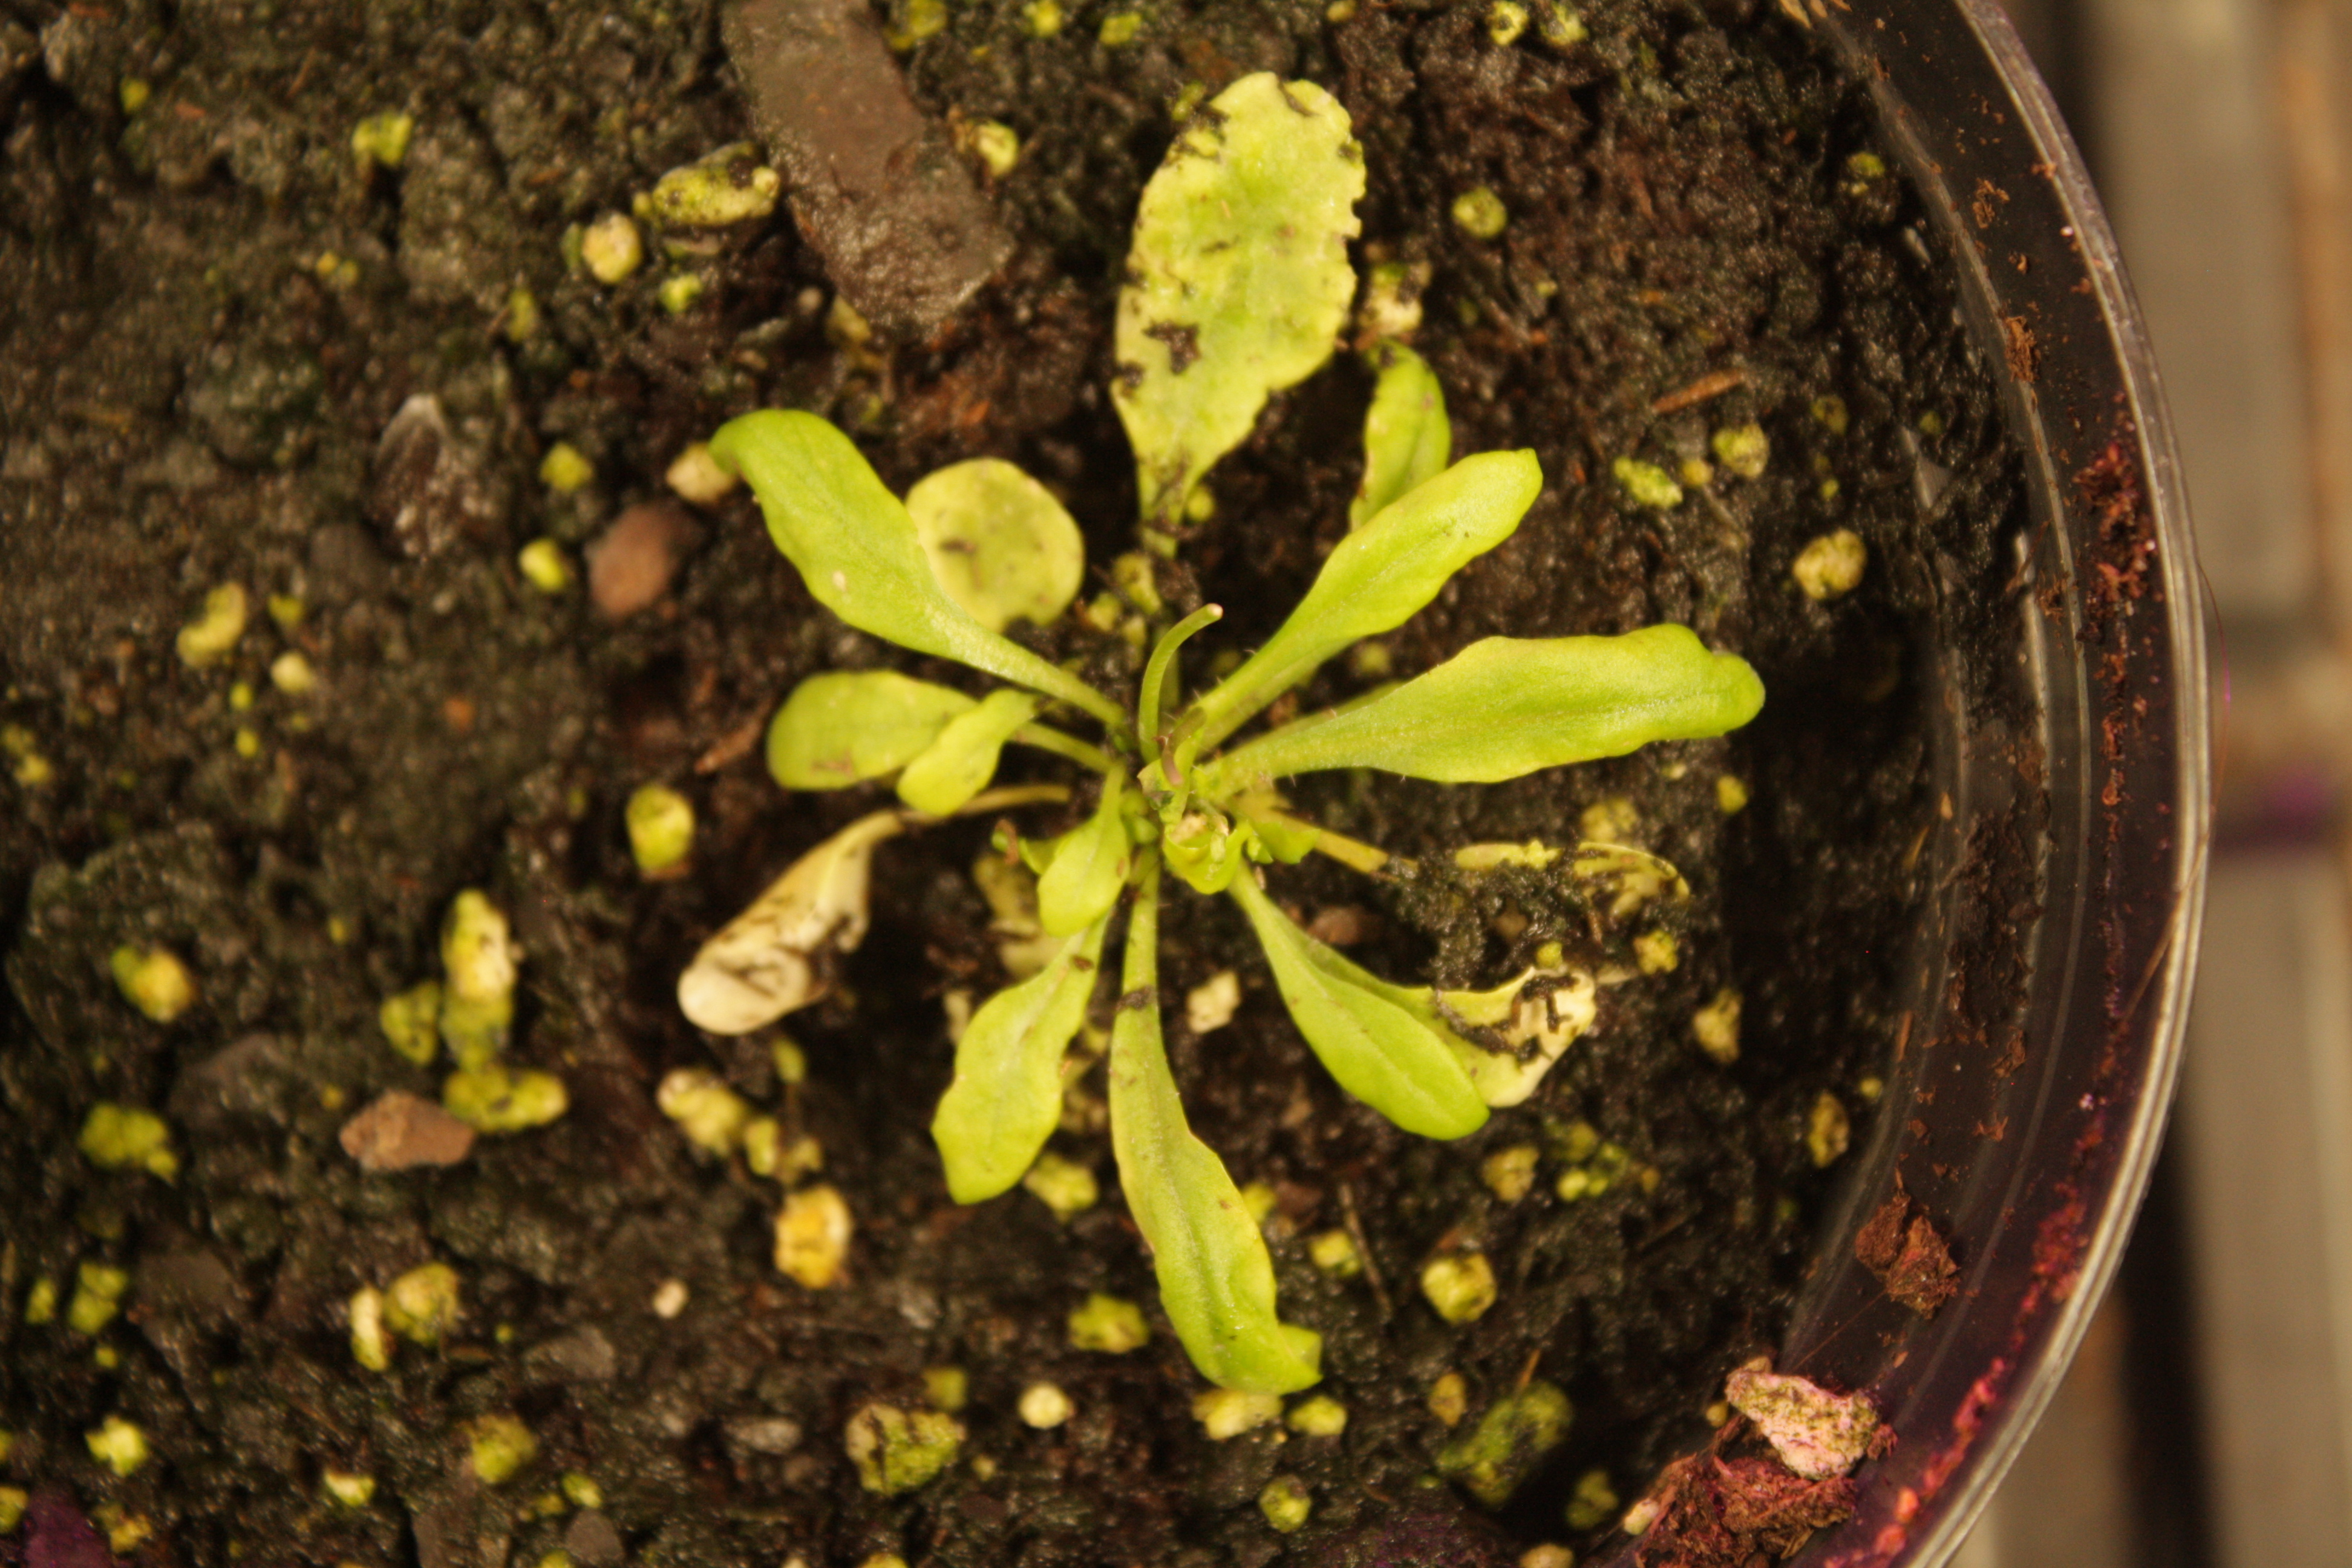leaf: (1055, 31, 1367, 525), (1090, 938, 1335, 1417), (1319, 616, 1795, 803), (1237, 446, 1550, 719), (698, 394, 983, 656), (1402, 814, 1738, 996), (1235, 910, 1484, 1153), (899, 936, 1097, 1220), (639, 830, 899, 1041), (875, 430, 1106, 661), (751, 651, 952, 830), (1335, 308, 1496, 513), (1456, 973, 1601, 1125), (912, 681, 1046, 817), (1029, 801, 1141, 952)
